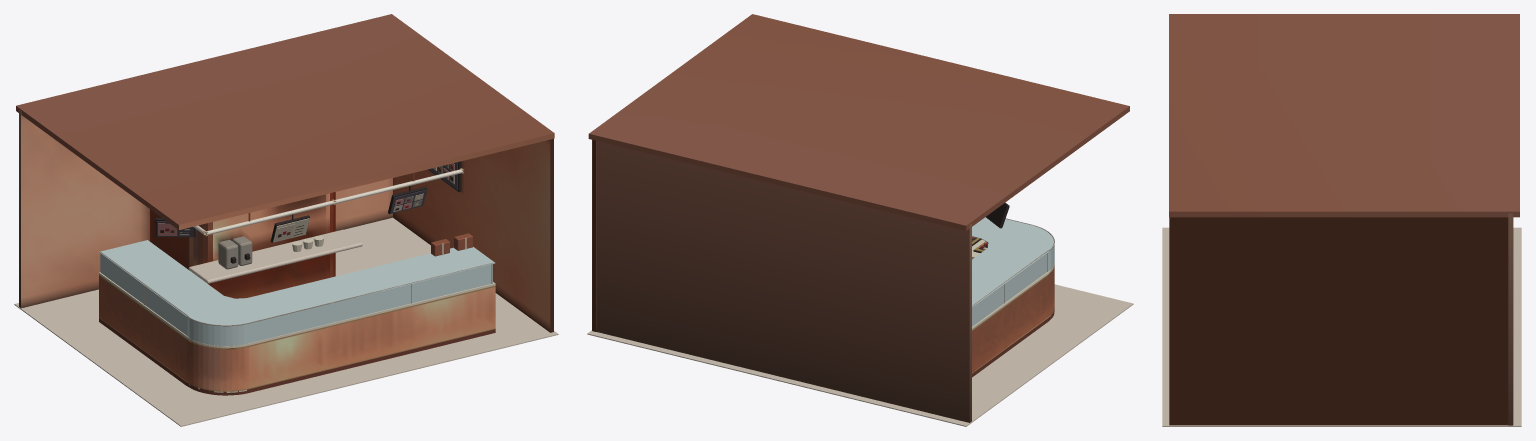
File: chocolatier.glb
3 renders of one model, left to right at view 1: azimuth 30°, elevation 25°; view 2: azimuth 150°, elevation 25°; view 3: azimuth 270°, elevation 25°, orthographic. The views are drawn at different scales.
Visible parts, largest first — view 1: GangnamChocolatier, Glass, Lit; view 2: GangnamChocolatier, Glass; view 3: GangnamChocolatier.
Part boxes in pixels (<box>): GangnamChocolatier: <box>14,14,558,426</box>; Glass: <box>99,240,495,345</box>; Lit: <box>189,169,463,392</box>; GangnamChocolatier: <box>587,14,1133,426</box>; Glass: <box>972,217,1054,326</box>; GangnamChocolatier: <box>1162,14,1521,426</box>.
Bounding box in the file's own units: 7.57 × 3.83 × 5.79.
